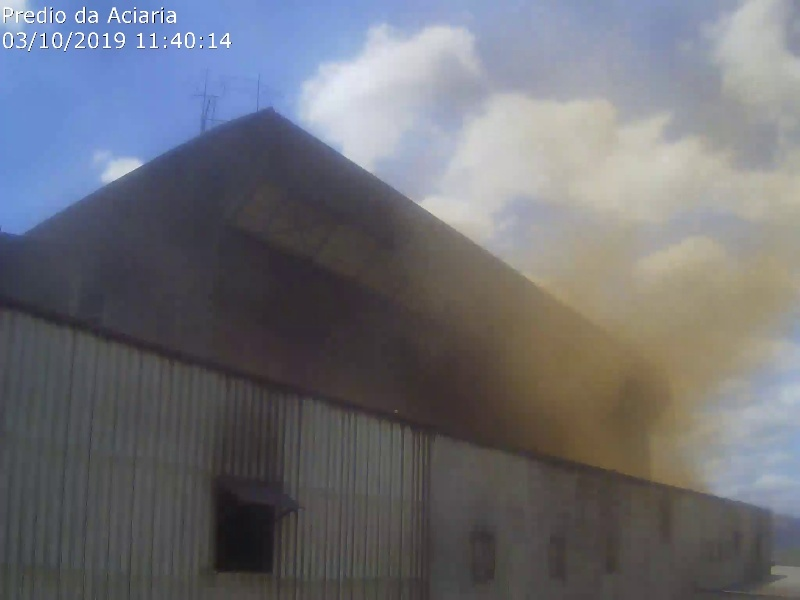bom: (5, 1, 271, 184)
pessimo: (432, 41, 800, 493)
